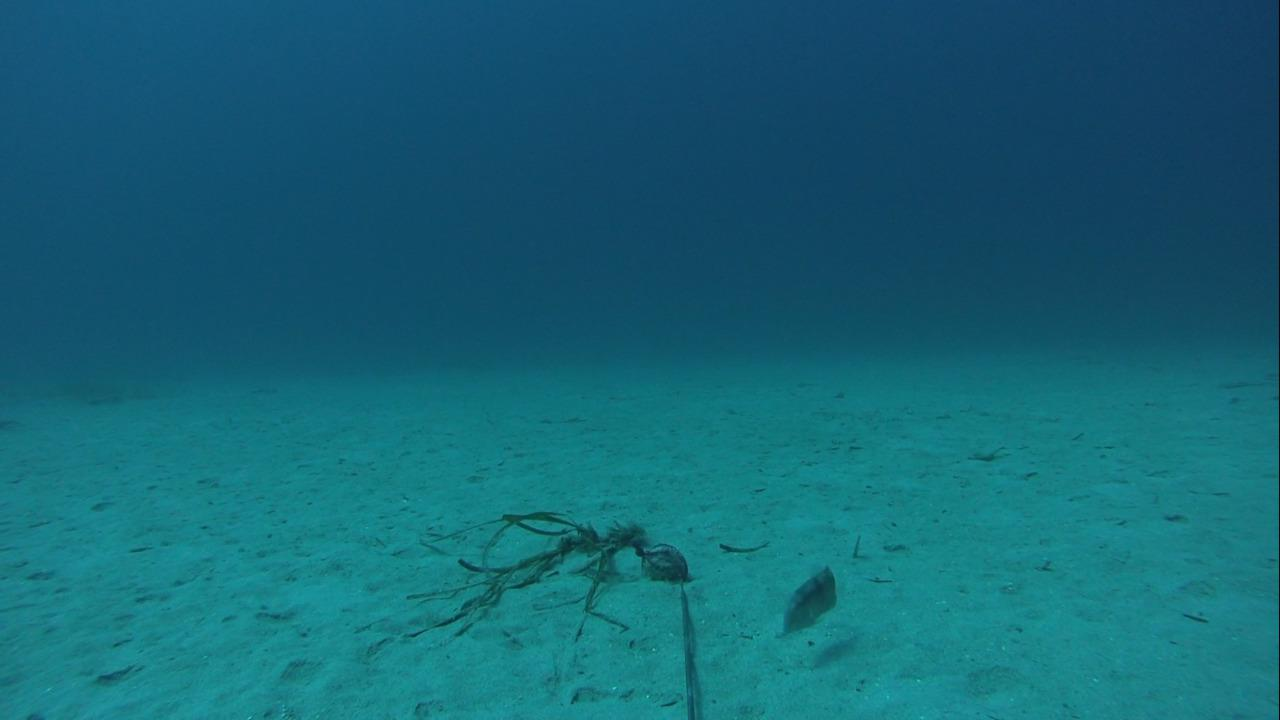raor: (775, 562, 839, 641)
